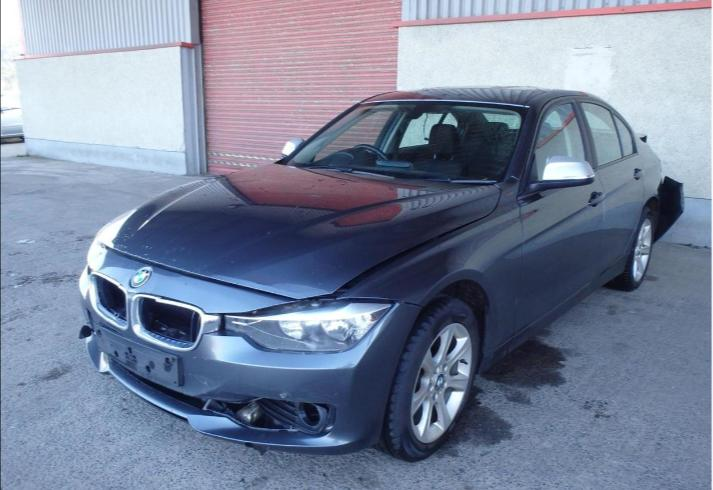Broken part: (307, 213, 490, 301), (202, 398, 336, 434), (653, 176, 684, 244), (78, 308, 93, 339)
Dent: (210, 275, 332, 299), (193, 381, 279, 403), (365, 303, 400, 351), (282, 381, 341, 405)
Flaking: (111, 221, 134, 251), (163, 239, 185, 262), (202, 191, 240, 203), (303, 177, 326, 190), (190, 264, 210, 277), (310, 270, 324, 287), (140, 244, 152, 260), (329, 179, 349, 188), (294, 204, 311, 214), (256, 186, 269, 193), (387, 186, 397, 191), (267, 230, 272, 235), (143, 214, 149, 218), (230, 260, 234, 264)
Missing part: (89, 272, 224, 351), (299, 403, 318, 427)
Scratch: (188, 373, 214, 388), (192, 356, 218, 362), (278, 393, 297, 399)
